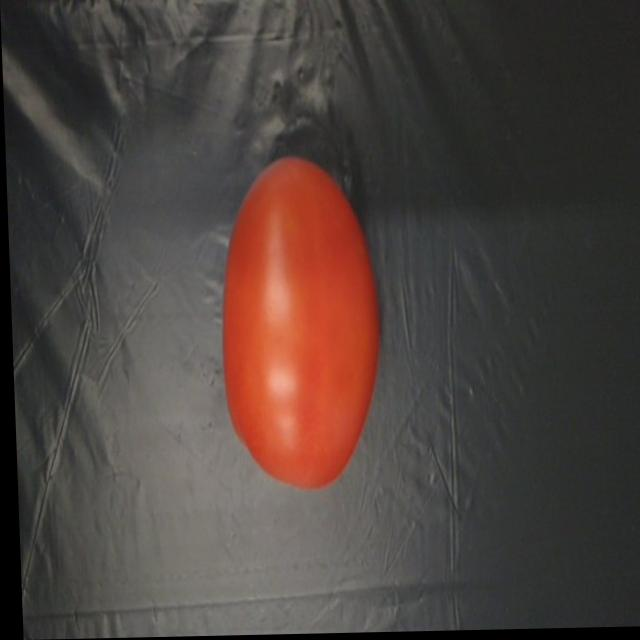kirmizi: (214, 142, 389, 490)
